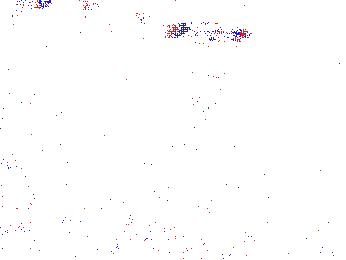X-ray fish: (101, 220, 161, 257)
redtail glassfish: (80, 1, 161, 32), (168, 20, 257, 47)
